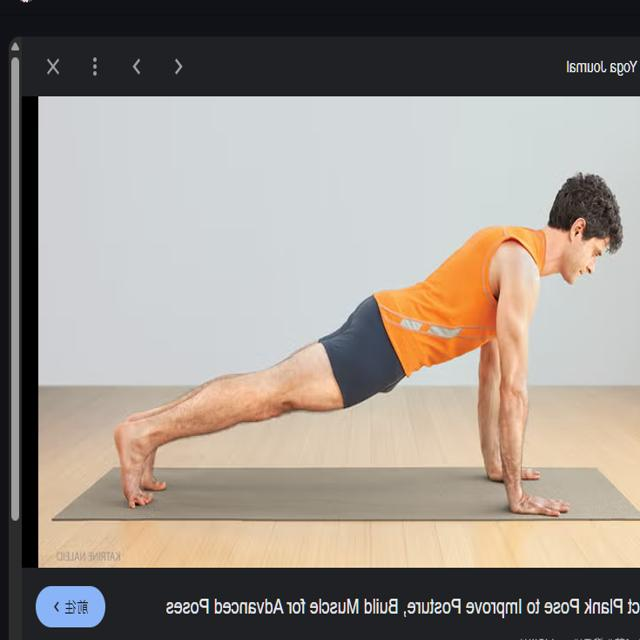Plank_Pose: (93, 162, 636, 523)
